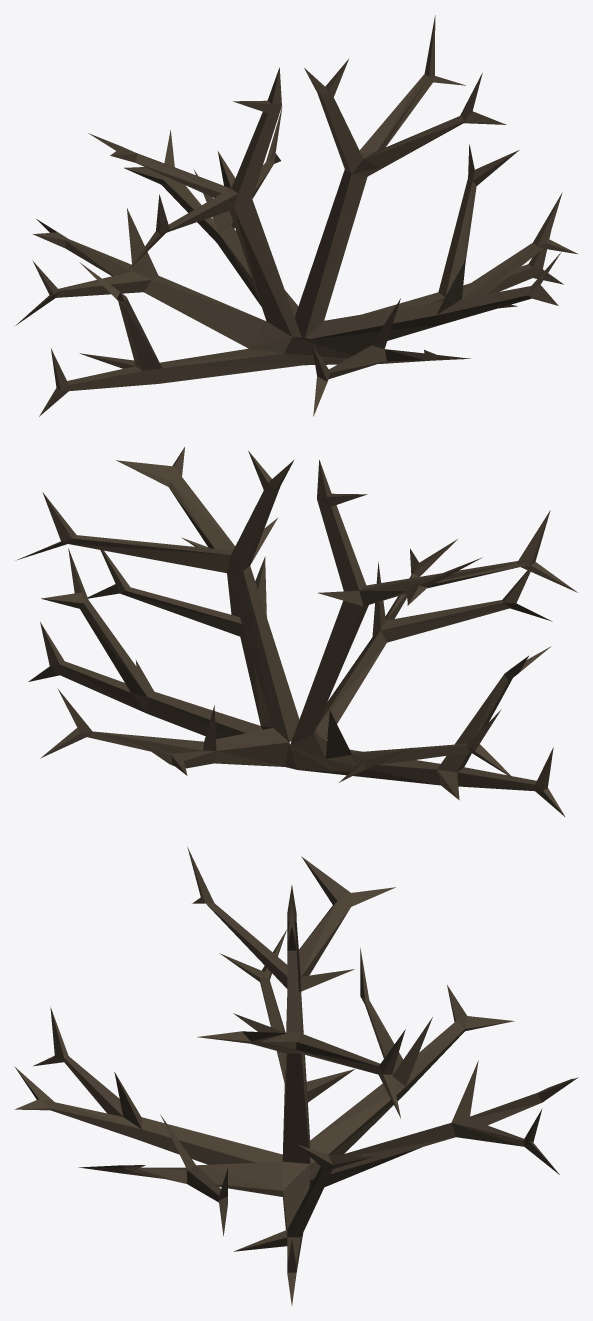
The picture shows the model from 3 angles, top to bottom: view 1: azimuth 30°, elevation 25°; view 2: azimuth 150°, elevation 25°; view 3: azimuth 270°, elevation 25°; orthographic projection. The views are drawn at different scales.
Bounding box in the file's own units: 264 × 144 × 248.
Materials: 1 (1 with a texture image).
